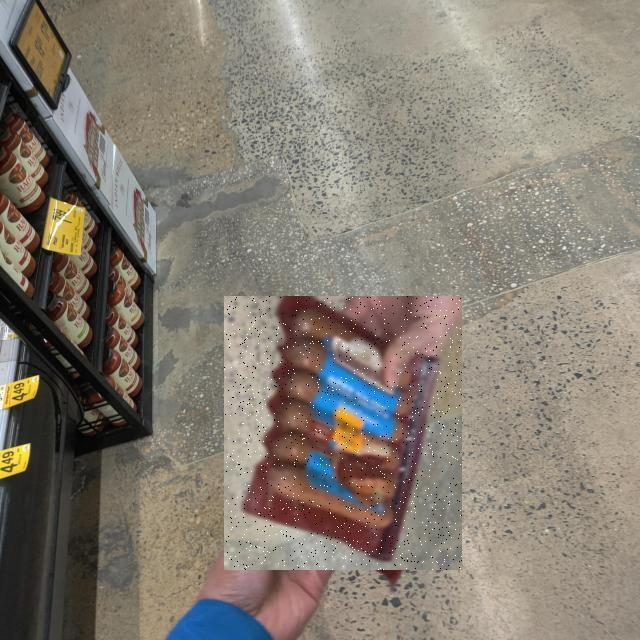Meat: (225, 297, 463, 571)
